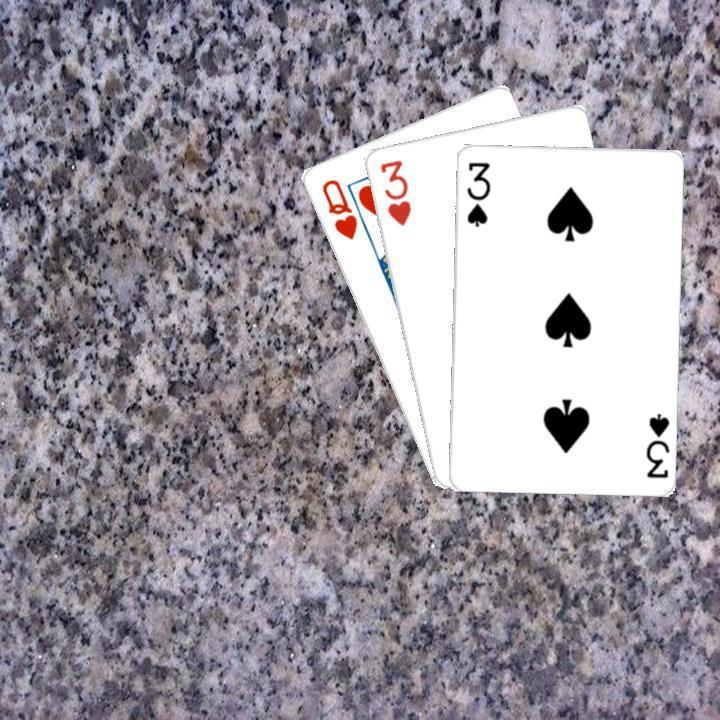3: (375, 155, 413, 228), (461, 157, 492, 228), (641, 409, 671, 480)
Q: (316, 174, 359, 242)
